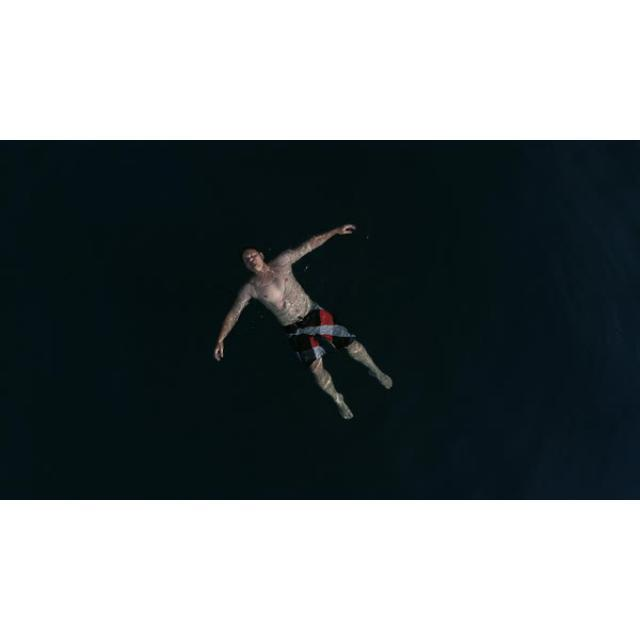human: (215, 224, 393, 421)
